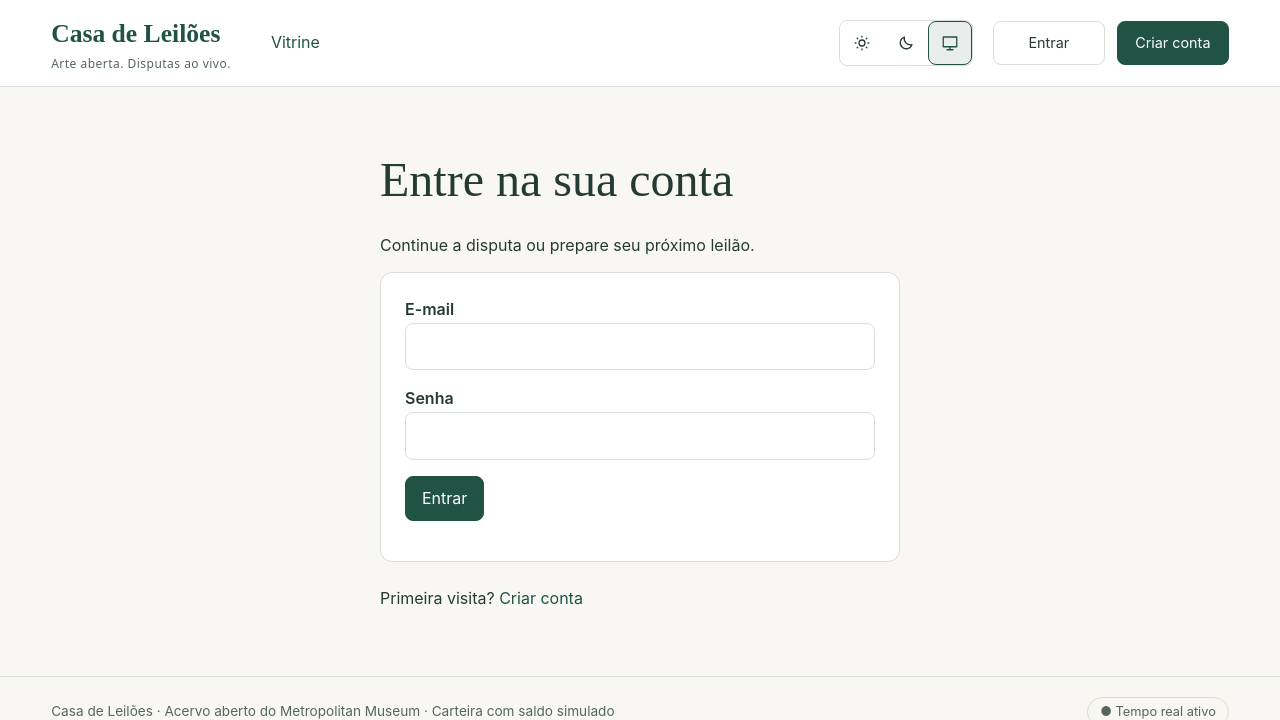
Test: validação própria em /entrar › exibe erros no envio vazio, foca o primeiro campo e não envia à API
This screenshot has width=1280, height=720.
Click the button "Entrar".
click(445, 498)  # box [405,476,484,521]
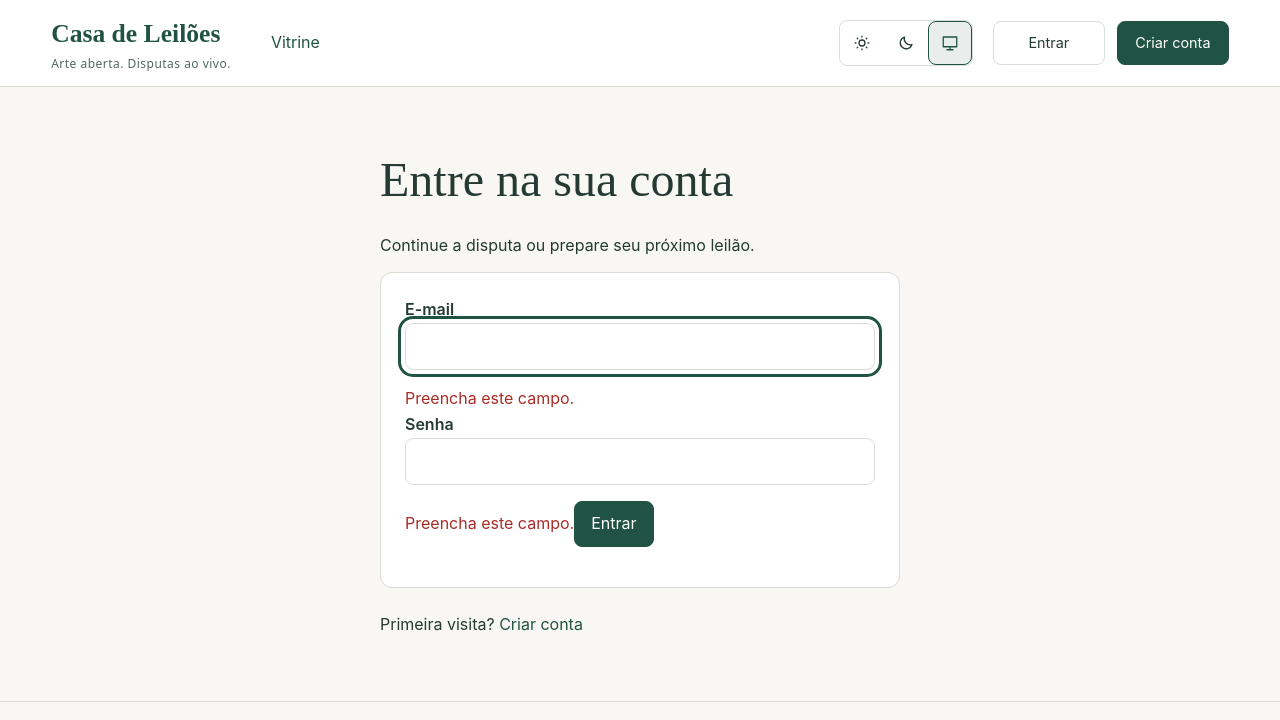
Now the text "Preencha este campo." is shown 2 times, box [405,388,574,408]; [405,513,574,533]
